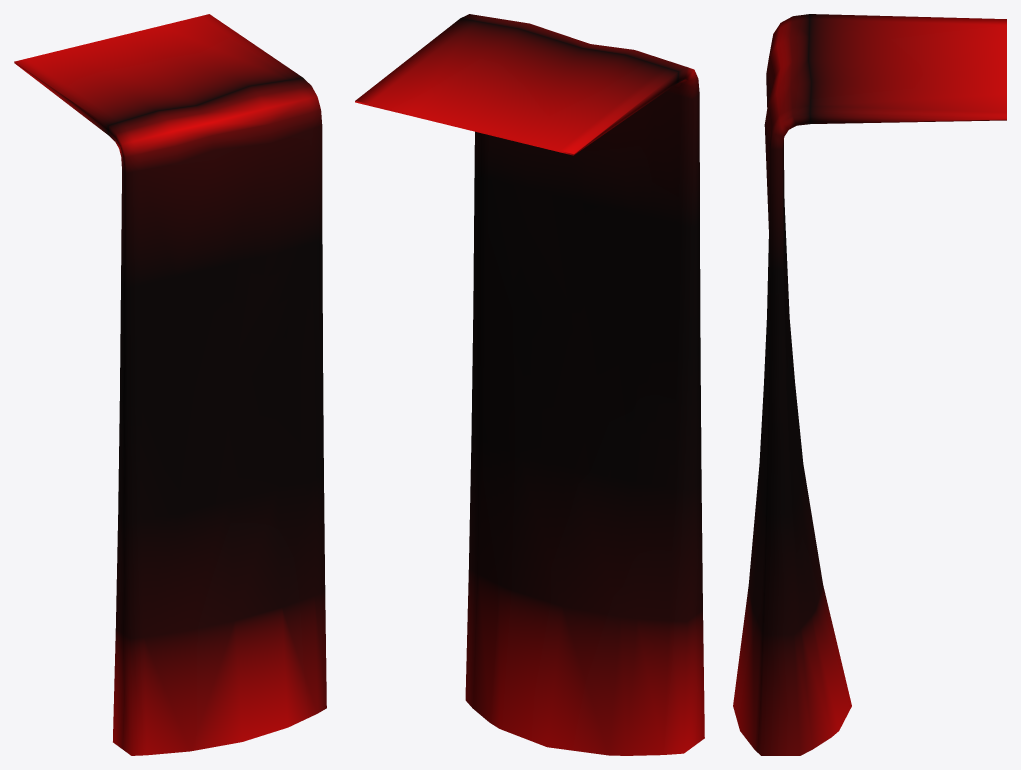
File: WaterFall01.fbx
3 views of the same model, side by side, from view 1: azimuth 30°, elevation 25°; view 2: azimuth 150°, elevation 25°; view 3: azimuth 270°, elevation 25° (orthographic). The views are drawn at different scales.
Parts seen in each view (by area): view 1: WaterFall01; view 2: WaterFall01; view 3: WaterFall01.
Part boxes in pixels (x1=…): WaterFall01: x1=14, y1=14, x2=326, y2=755; WaterFall01: x1=355, y1=14, x2=704, y2=755; WaterFall01: x1=733, y1=14, x2=1006, y2=755.
Bounding box in the file's own units: 100 × 302 × 116.
